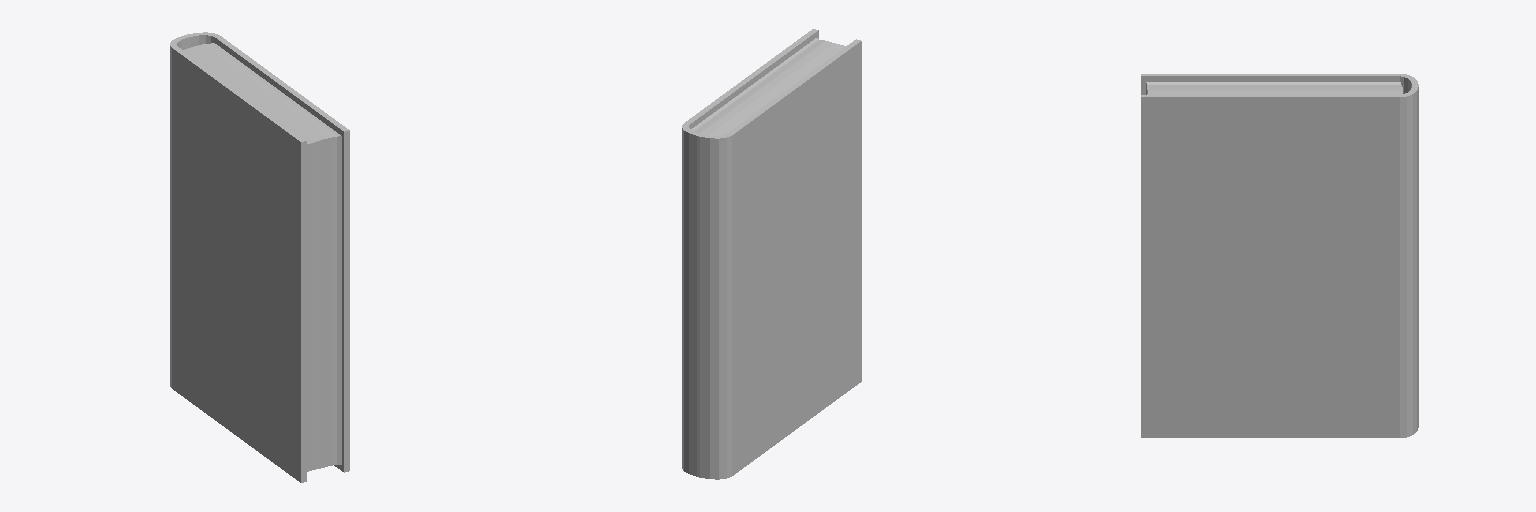
The model's file is SetA_Book_Style_04.obj.
3 renders of one model, left to right at view 1: azimuth 30°, elevation 25°; view 2: azimuth 150°, elevation 25°; view 3: azimuth 270°, elevation 25°, orthographic.
Visible parts, largest first — view 1: SetA_Book_Style_04; view 2: SetA_Book_Style_04; view 3: SetA_Book_Style_04.
Part boxes in pixels (bbox=[...]): SetA_Book_Style_04: bbox=[170, 32, 349, 482]; SetA_Book_Style_04: bbox=[682, 29, 861, 479]; SetA_Book_Style_04: bbox=[1141, 74, 1418, 437].
Size of the model in its own units: 0.0433 by 0.2896 by 0.2138.